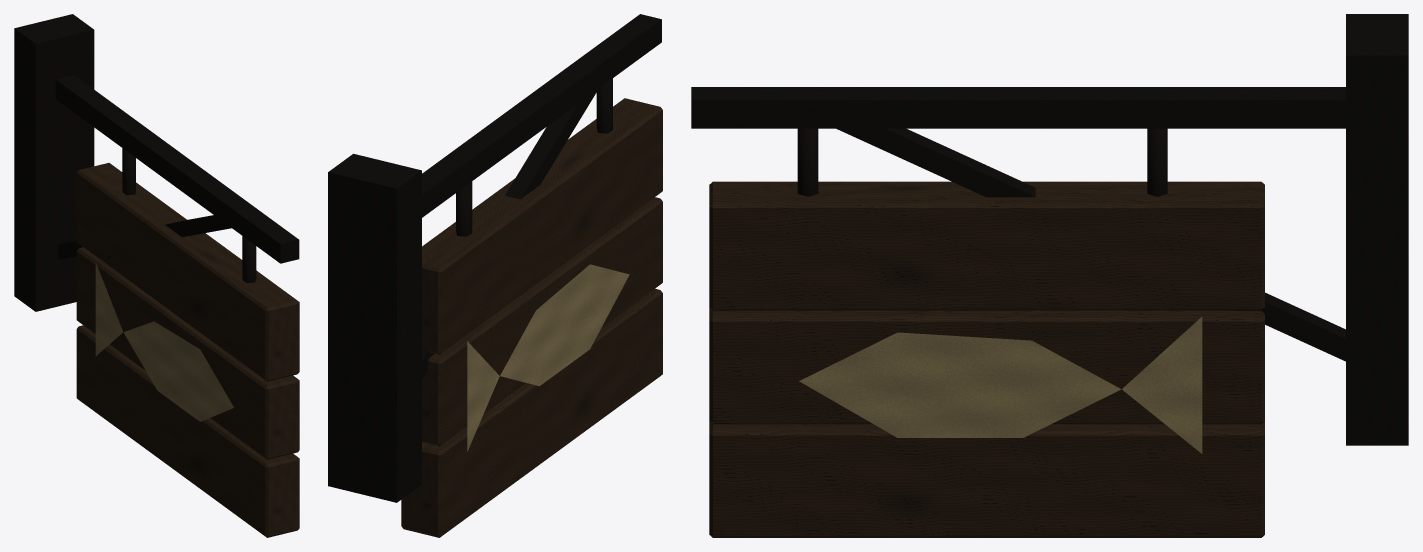
File: tavern_sign.glb
3 renders of one model, left to right at view 1: azimuth 30°, elevation 25°; view 2: azimuth 150°, elevation 25°; view 3: azimuth 270°, elevation 25°, orthographic. The views are drawn at different scales.
Parts seen in each view (by area): view 1: tavern_sign; view 2: tavern_sign; view 3: tavern_sign.
Boxes of the visible parts, x1,y1,x2,y2 form: tavern_sign: (14,14,299,537); tavern_sign: (328,14,662,537); tavern_sign: (691,14,1408,537).
Bounding box in the file's own units: 0.11 × 0.606 × 0.8.
1 material, 1 textured.
